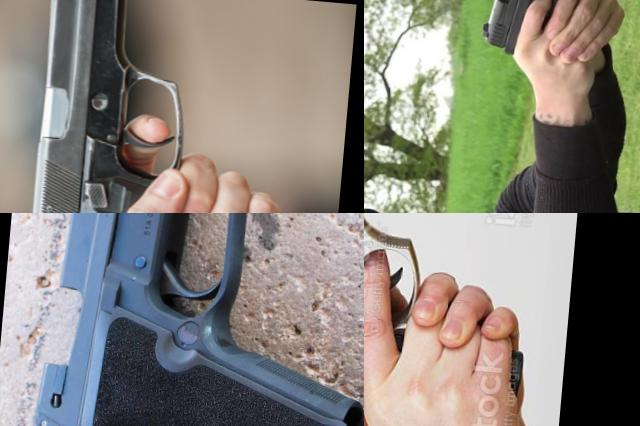handgun: (7, 213, 364, 426), (12, 0, 303, 213), (364, 213, 548, 426), (477, 0, 572, 61), (374, 0, 450, 29)
